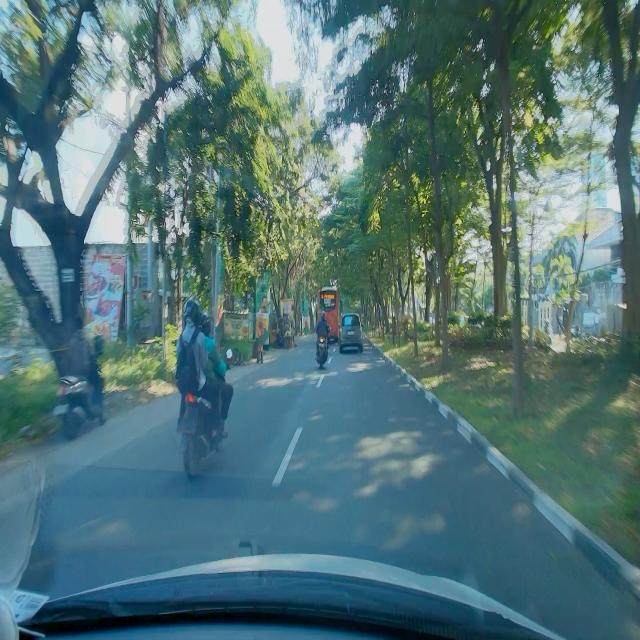bus: (317, 286, 340, 344)
car: (339, 312, 364, 354)
